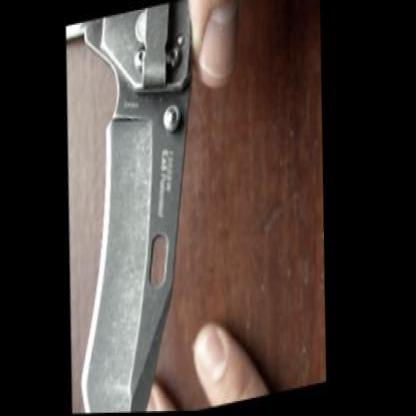knife: (49, 0, 239, 411)
